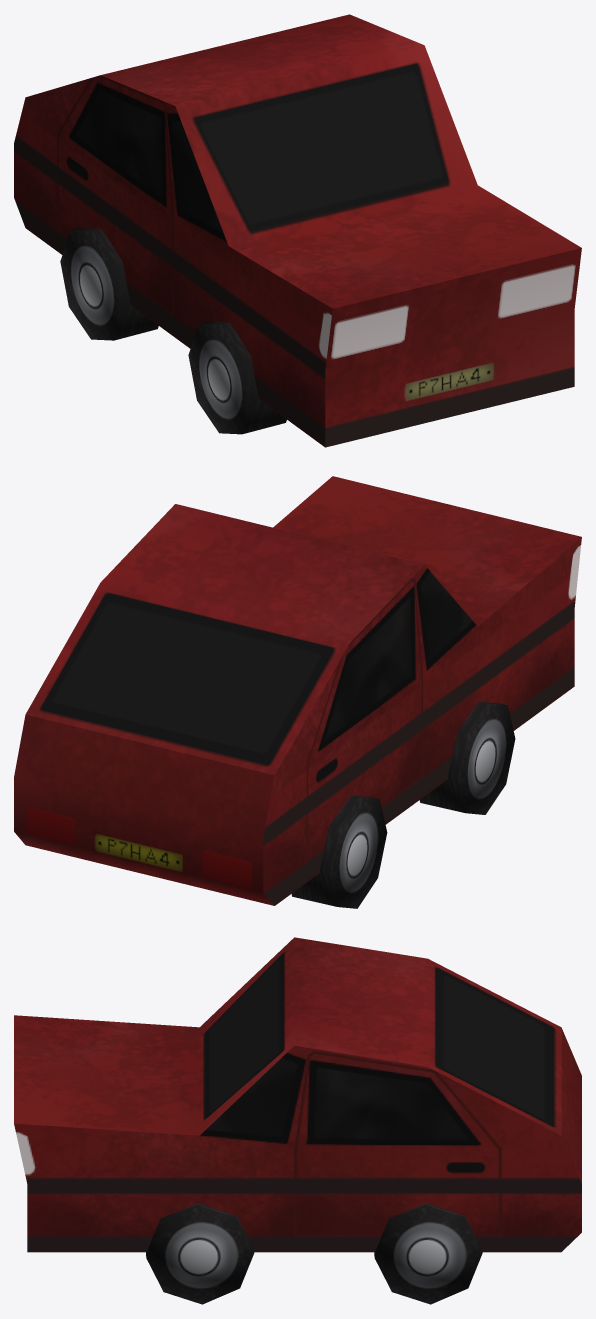
Rendered from Car_Object.fbx.
3 views of the same model, one above another, from view 1: azimuth 30°, elevation 25°; view 2: azimuth 150°, elevation 25°; view 3: azimuth 270°, elevation 25° (orthographic). The views are drawn at different scales.
Parts seen in each view (by area): view 1: Car_Object; view 2: Car_Object; view 3: Car_Object.
Boxes of the visible parts, x1,y1,x2,y2 form: Car_Object: (14, 14, 581, 447); Car_Object: (14, 476, 581, 908); Car_Object: (14, 937, 581, 1304).
Size of the model in its own units: 5.18 by 5.28 by 10.63.
2 materials, 2 textured.
